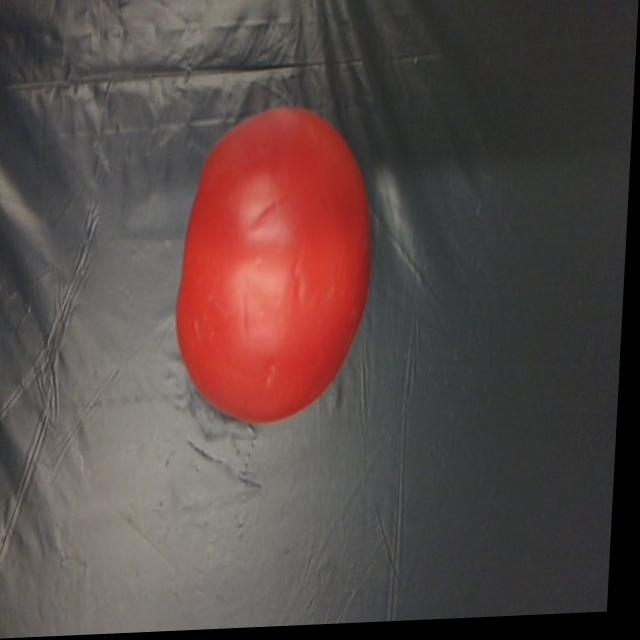kirmizi: (166, 93, 398, 436)
